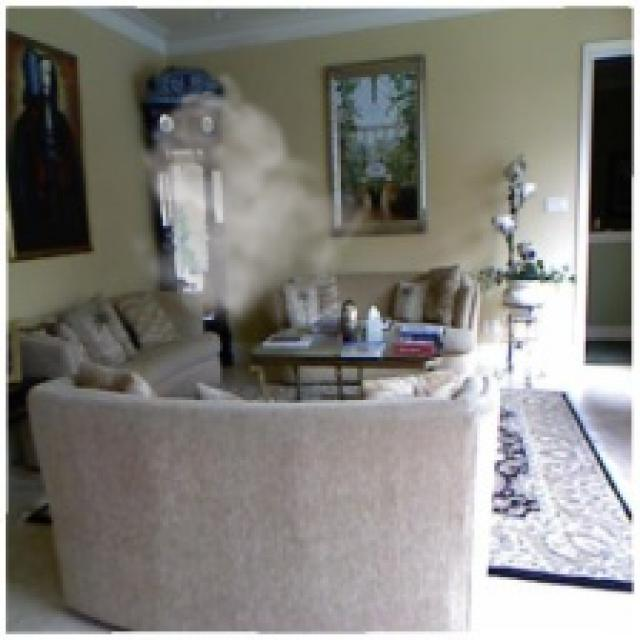smoke: (114, 69, 386, 334)
